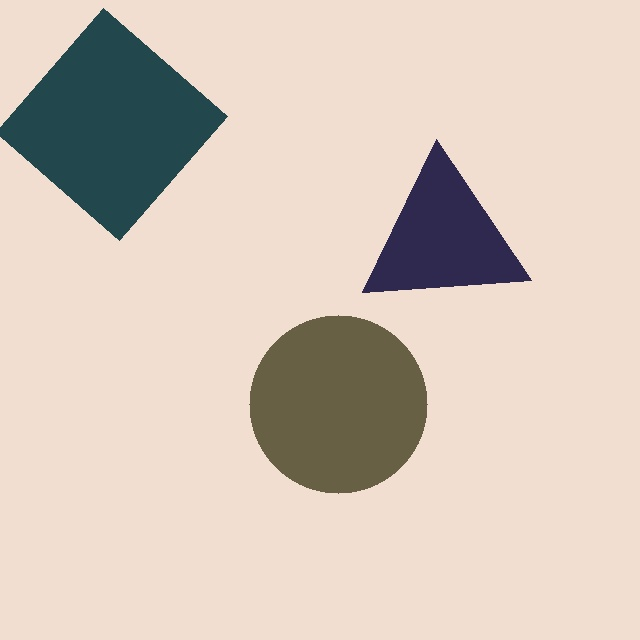circle: (249, 315, 427, 493)
square: (0, 7, 228, 241)
triangle: (361, 139, 531, 293)
